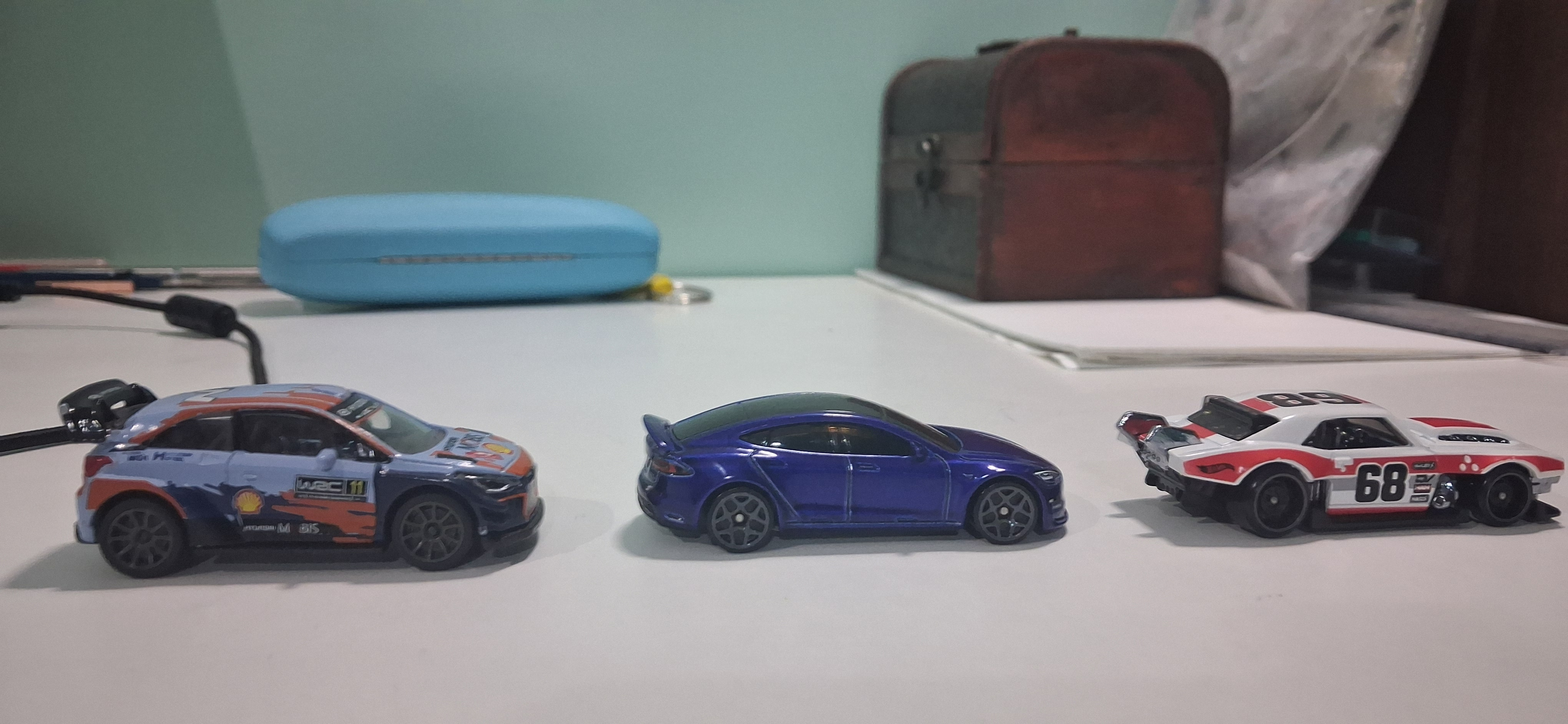Camaro: (1106, 364, 1568, 562)
Hyundai_I20_WRC: (41, 374, 546, 610)
Tesla_Model_S_Plaid: (613, 381, 1078, 573)
